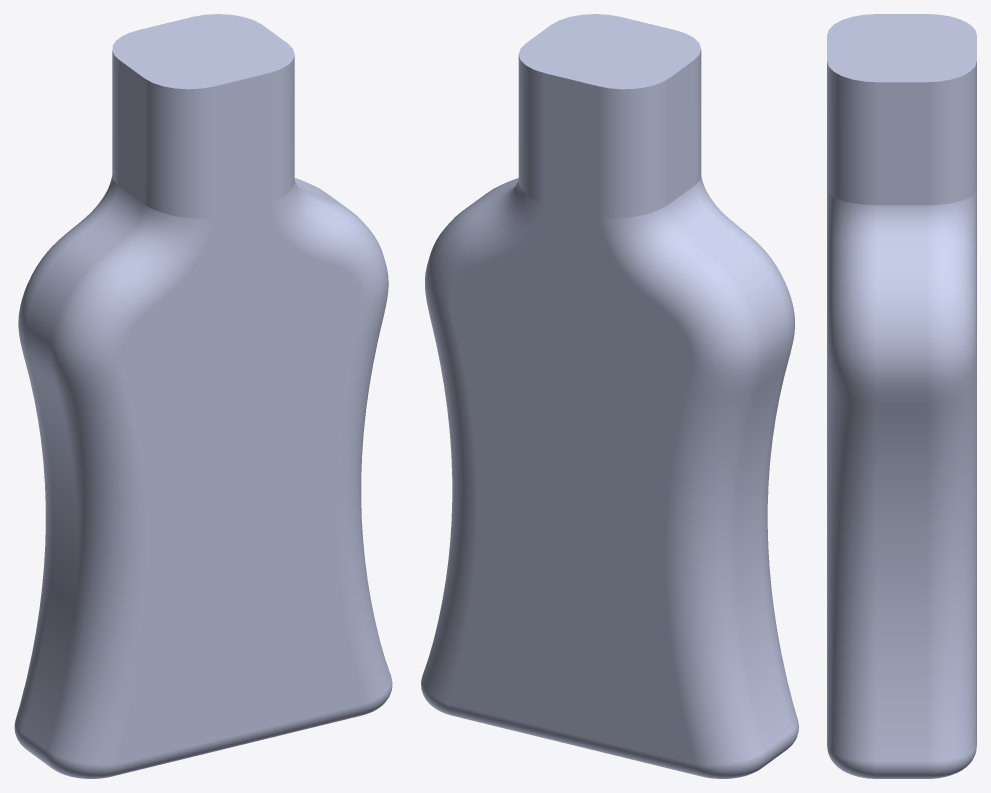
The model's file is KC_Masterpiece.dae.
The picture shows the model from 3 angles, left to right: view 1: azimuth 30°, elevation 25°; view 2: azimuth 150°, elevation 25°; view 3: azimuth 270°, elevation 25°; orthographic projection. The views are drawn at different scales.
Visible parts, largest first — view 1: Actor0; view 2: Actor0; view 3: Actor0.
Part boxes in pixels (bbox=[...]): Actor0: bbox=[14, 14, 392, 778]; Actor0: bbox=[421, 14, 798, 778]; Actor0: bbox=[827, 14, 976, 778].
Bounding box in the file's own units: 0.0972 × 0.1842 × 0.0381.
